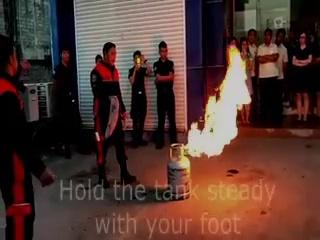Fire: (182, 31, 256, 158)
